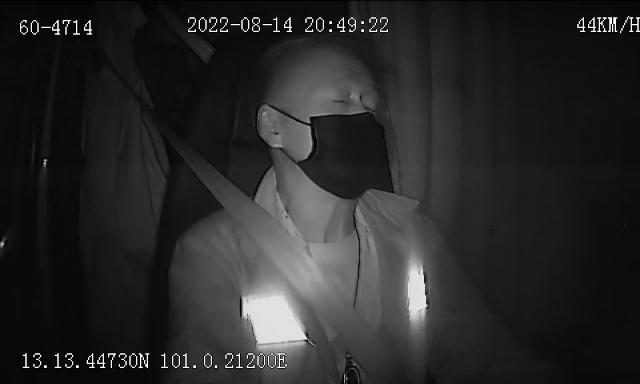Seatbelt: (170, 138, 380, 384)
